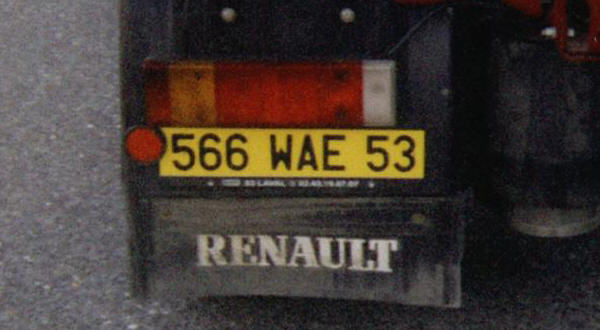license_plate: (158, 125, 429, 187)
